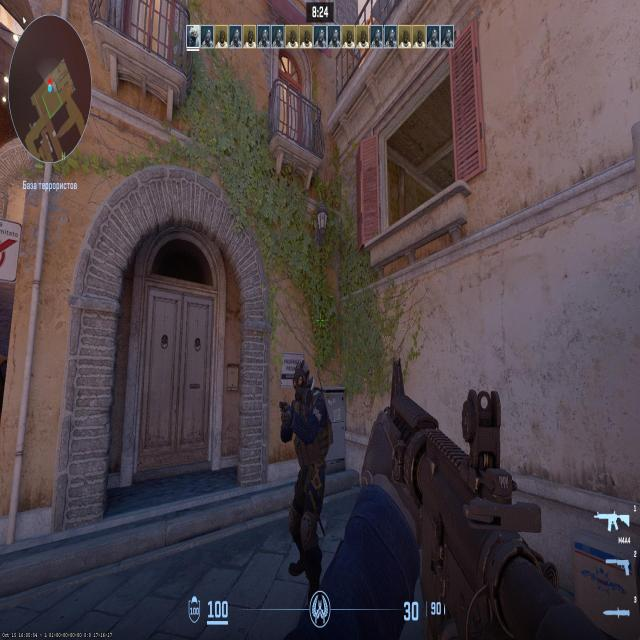CT: (290, 361, 320, 569)
CT_heat: (300, 360, 308, 397)
